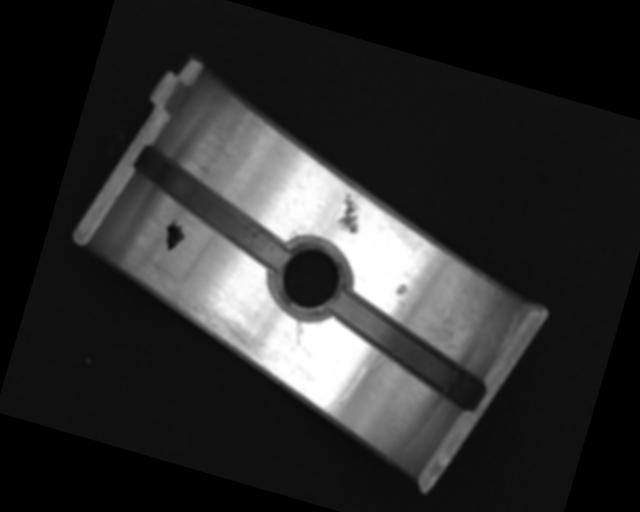blot: (160, 217, 189, 254)
bruise: (334, 191, 369, 236), (394, 281, 410, 300)
gap: (117, 144, 305, 273), (318, 291, 498, 411)
hole: (259, 230, 359, 332)
nick: (322, 358, 369, 422), (289, 317, 308, 346)
scratch: (114, 264, 268, 358)
